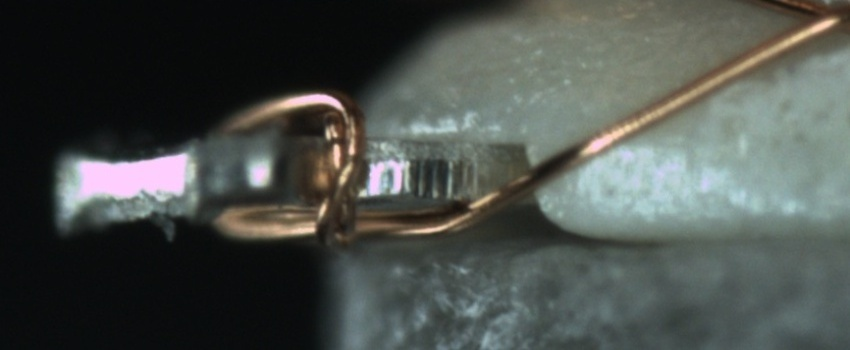CL: (773, 0, 848, 46)
TE: (226, 78, 377, 258)
